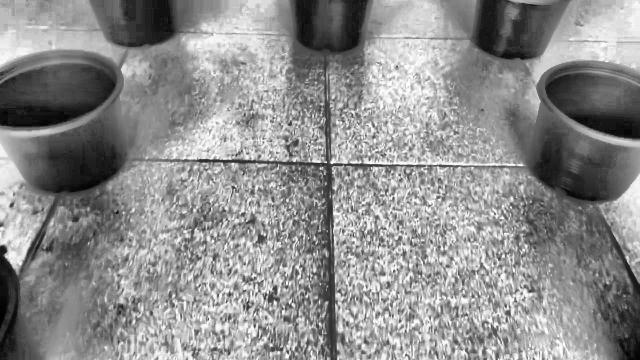pot: (0, 50, 130, 195), (526, 61, 640, 204)
